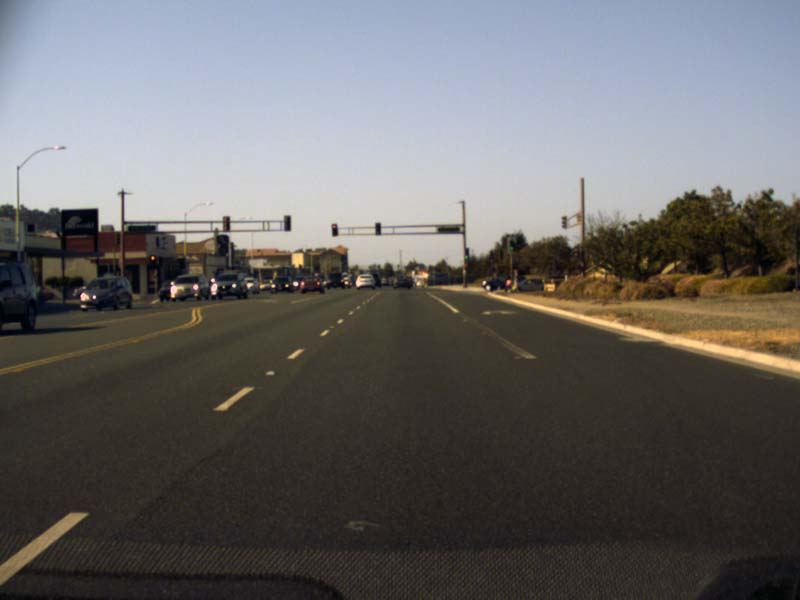Green: (508, 241, 515, 251), (463, 248, 468, 260)
Red: (331, 223, 337, 236)
Yellow: (149, 253, 156, 268)
